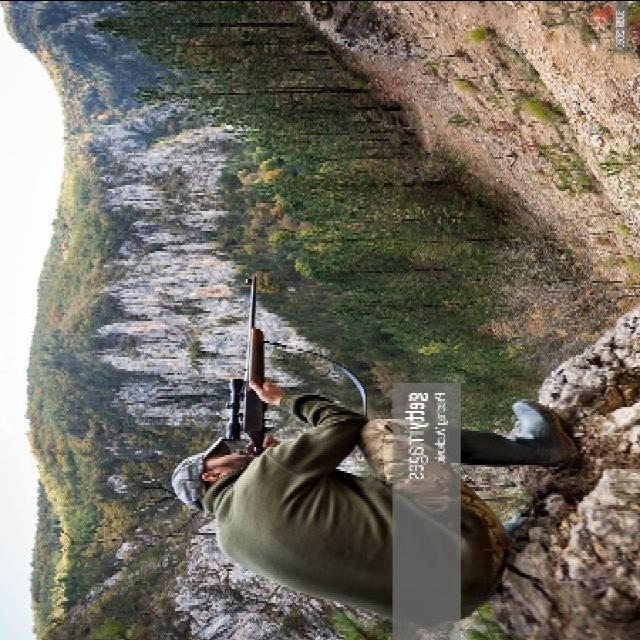rifle: (217, 265, 277, 463)
